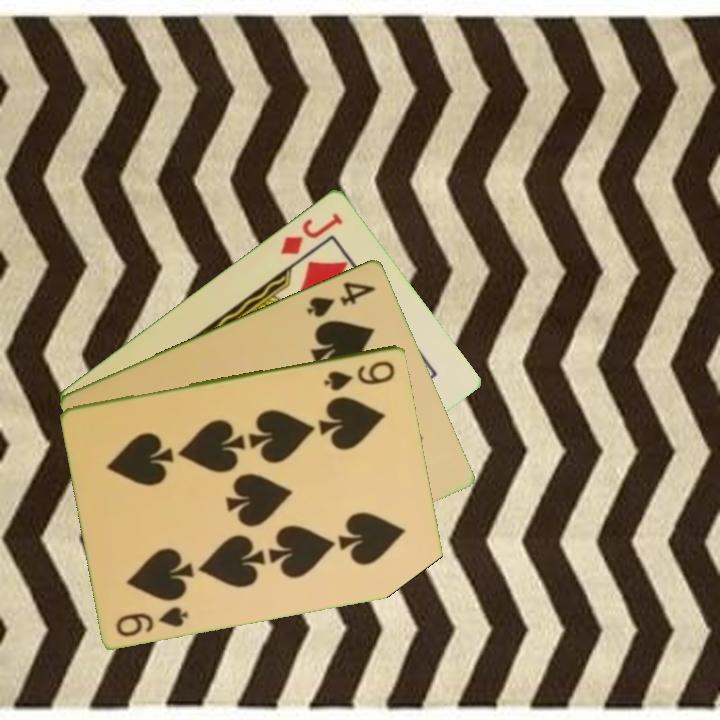4s: (303, 277, 379, 320)
9s: (112, 602, 192, 639), (321, 356, 398, 393)
Jd: (277, 208, 346, 257)
